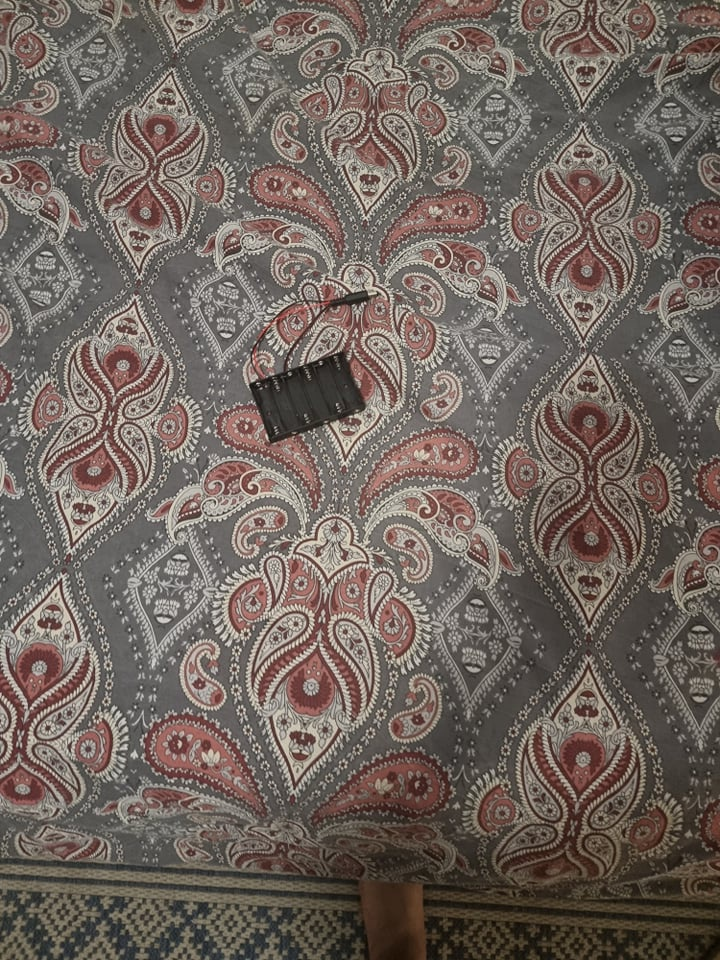BATTERY BOX: (249, 344, 367, 447)
